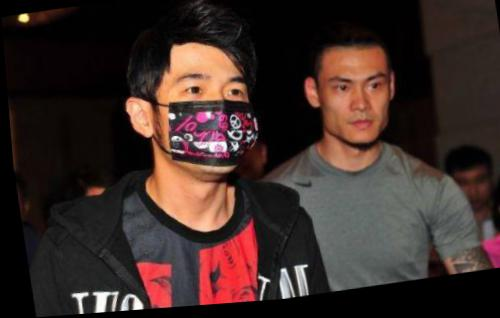NONE: (319, 71, 397, 154), (451, 175, 492, 218)
WRONG: (150, 67, 261, 187)
